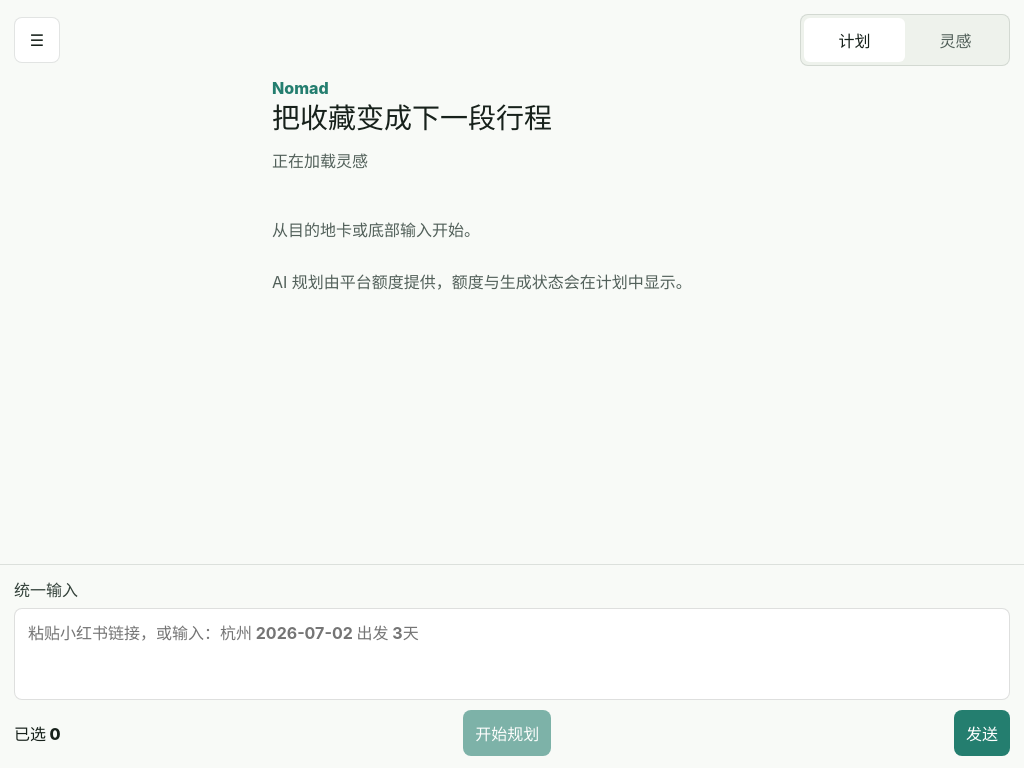
Test: HomeScreen › routes classified XHS input to canonical ingest and shows multi-link warning copy
Type "https://www.xiaohongshu.com/explore/a https://xhslink.com/b" into the text box labelled "统一输入" at (512, 654), box [14,608,1010,700]
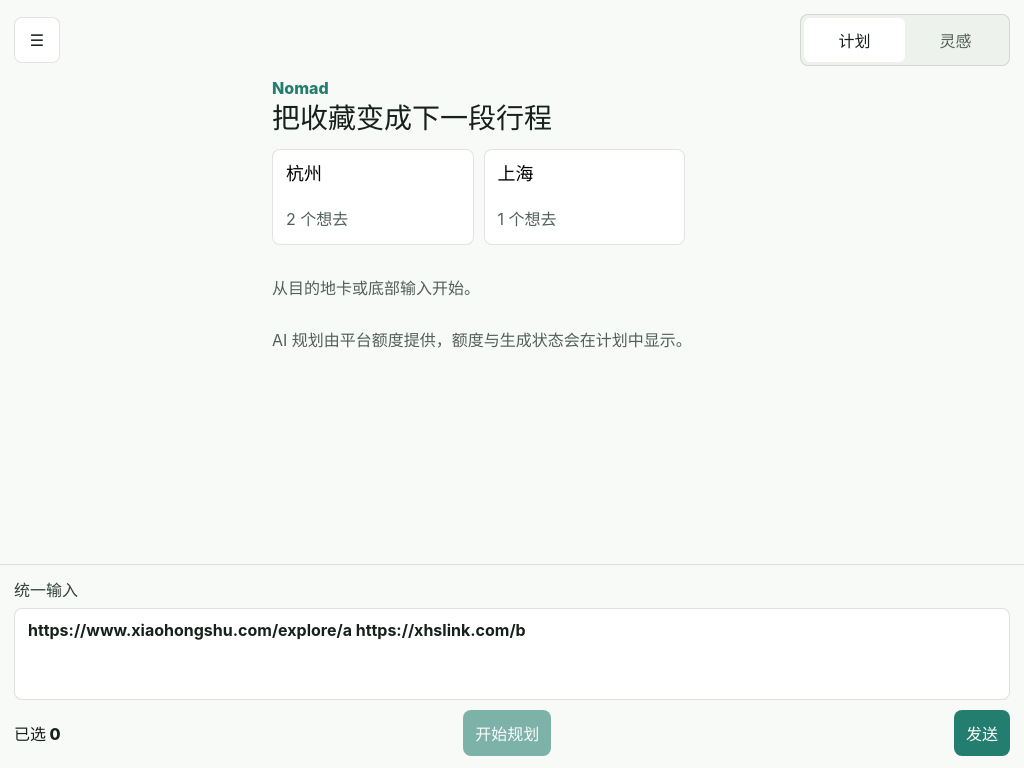
Click the button "发送" at (982, 733), box [954,710,1010,756]
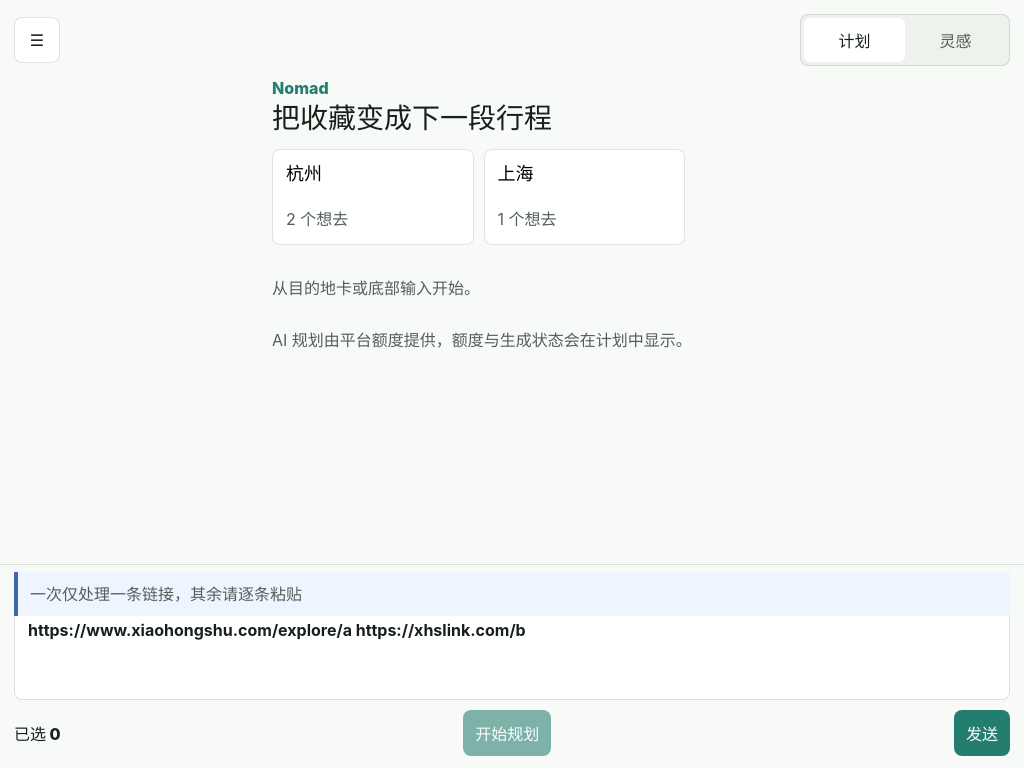
Result: the text "一次仅处理一条链接，其余请逐条粘贴" is shown at [14,572,1010,616]
